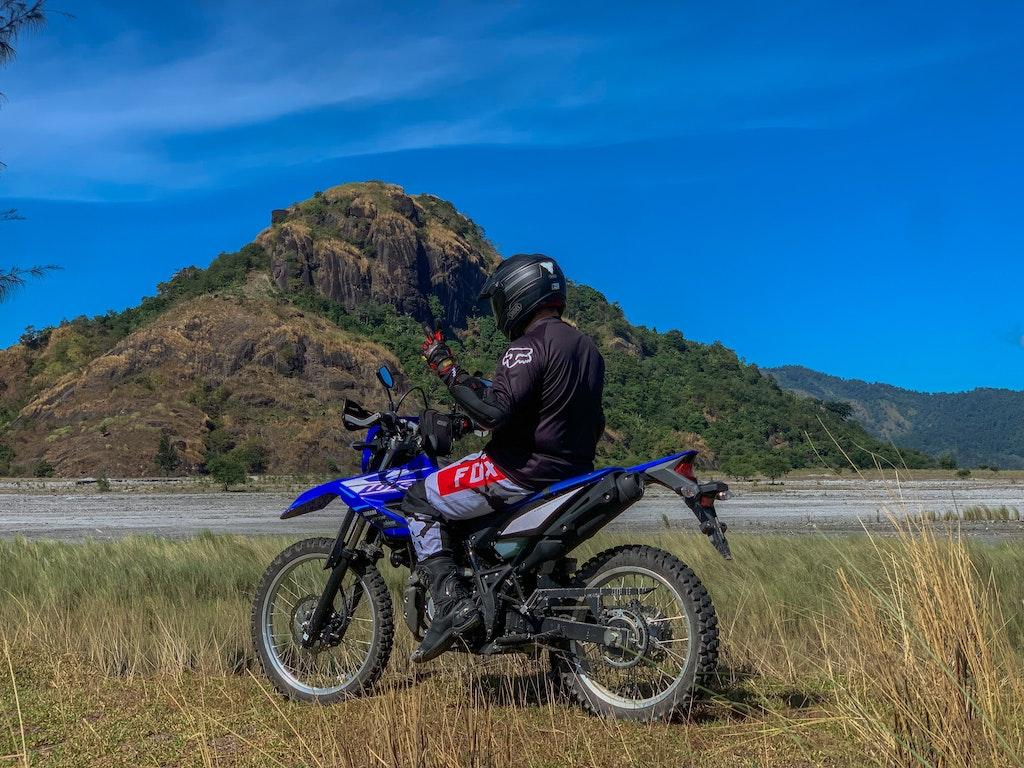helmet: (477, 253, 567, 345)
